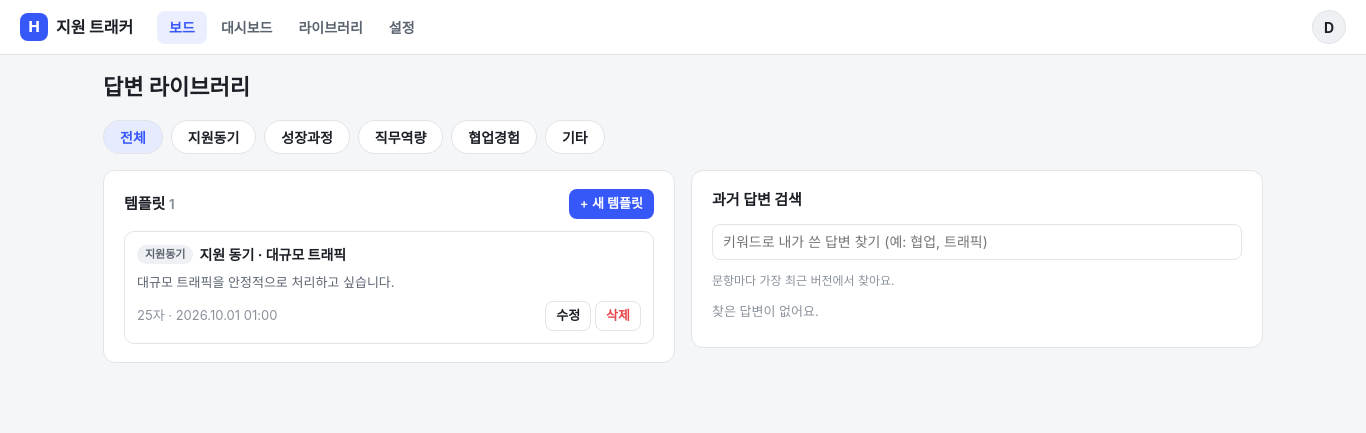
답변 라이브러리 › 과거 답변을 검색하면 키워드를 강조하고, 그 공고의 자소서 탭으로 가는 링크를 보여준다
Check: the text "찾은 답변이 없어요." is shown, box [712,302,819,318]
In the search field named "과거 답변 검색": (977, 242) [712,224,1242,260], type "장애"
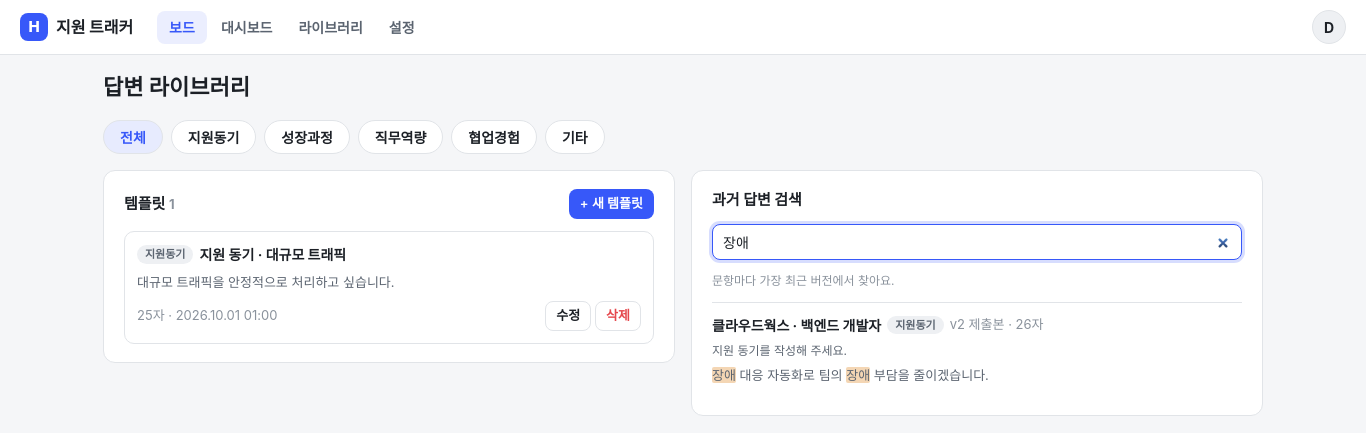
Check: the list item "클라우드웍스 · 백엔드 개발자" shows "v2 제출본 · 26자", box [712,302,1242,397]
